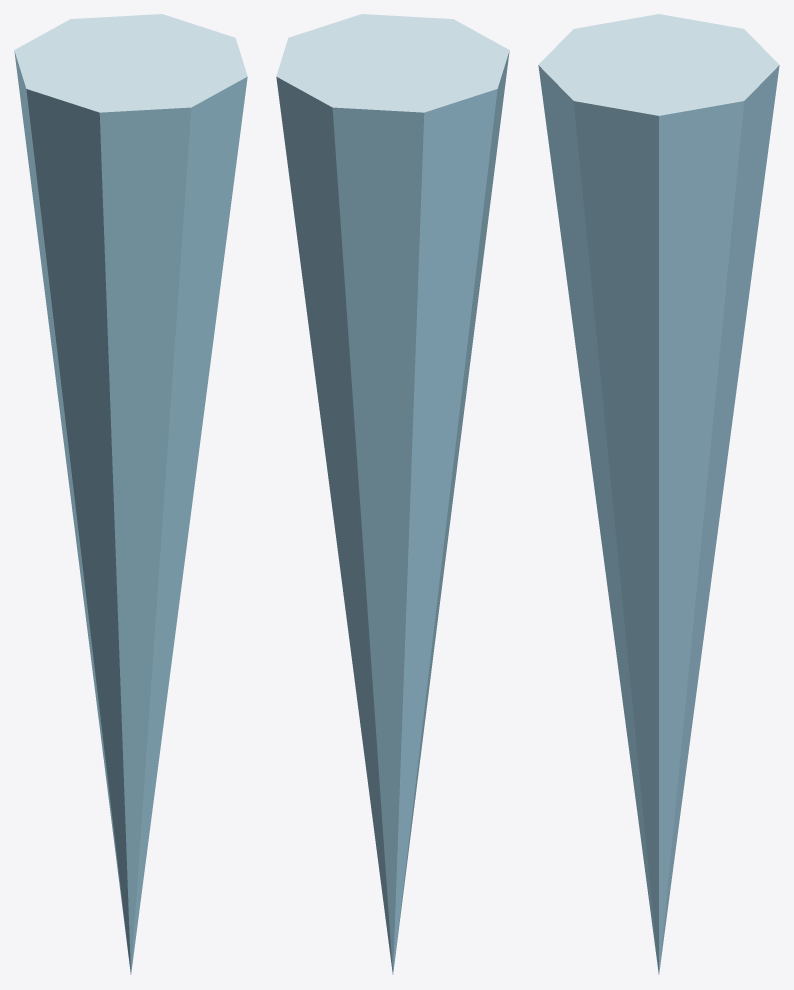
File: istapp.glb
3 views of the same model, side by side, from view 1: azimuth 30°, elevation 25°; view 2: azimuth 150°, elevation 25°; view 3: azimuth 270°, elevation 25° (orthographic).
Visible parts, largest first — view 1: istapp; view 2: istapp; view 3: istapp.
Boxes of the visible parts, x1,y1,x2,y2 form: istapp: (14, 14, 247, 974); istapp: (276, 14, 509, 974); istapp: (538, 14, 779, 974).
Size of the model in its own units: 0.24 by 1 by 0.24.
